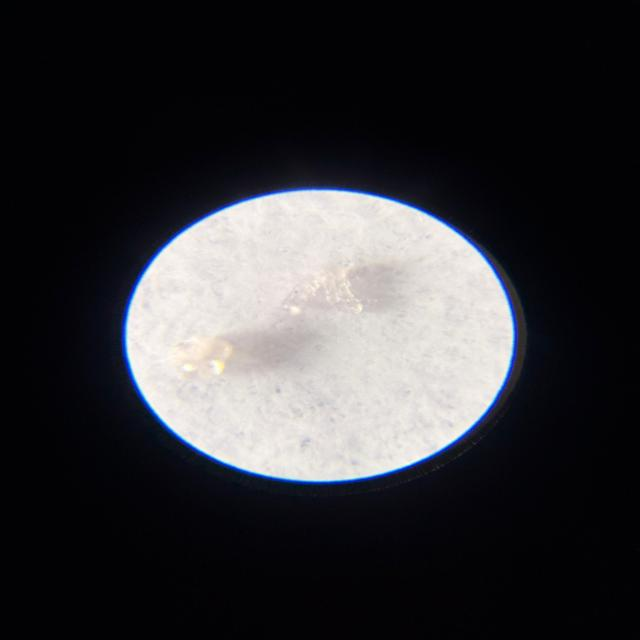microplastic_type_1: (282, 264, 371, 315), (169, 337, 240, 380)
